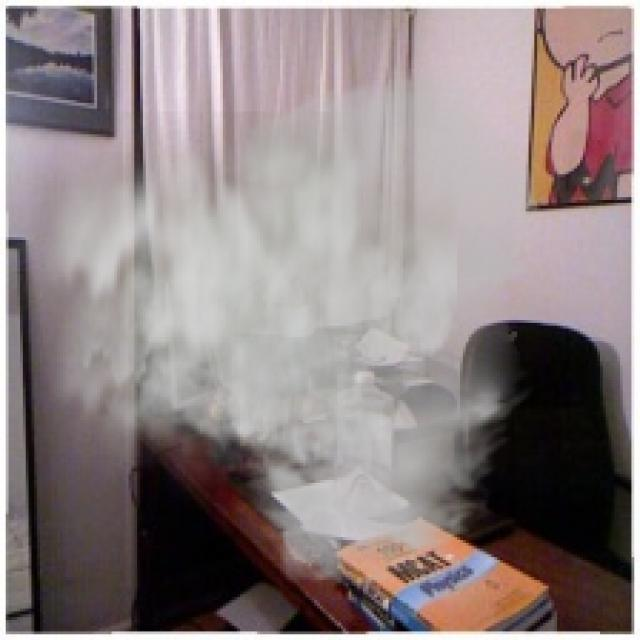Smoke: (17, 59, 546, 592)
